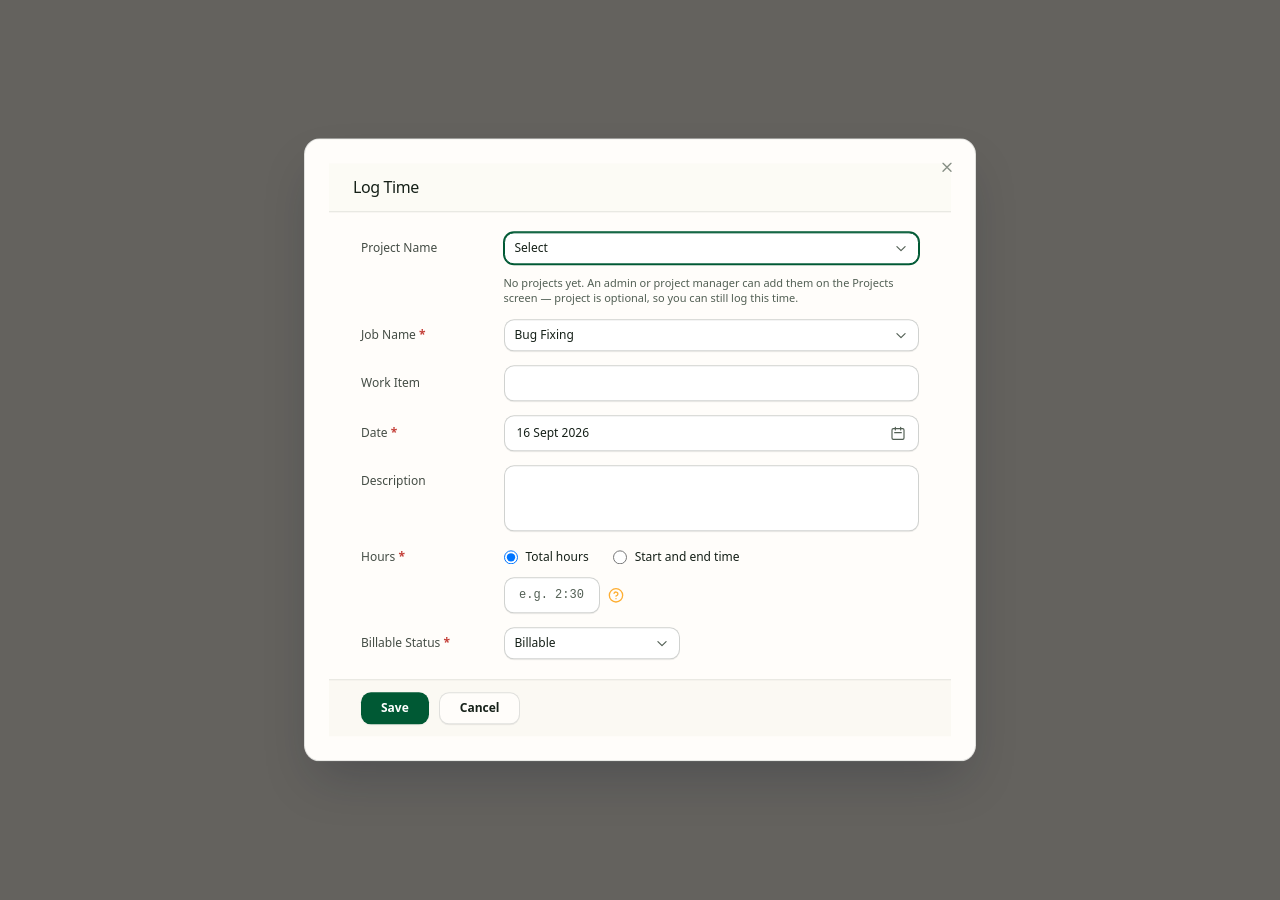
Scenario: Log Time hours › will not save until hours are entered
Click the button "Save" at (395, 709), box [361,693,429,725]
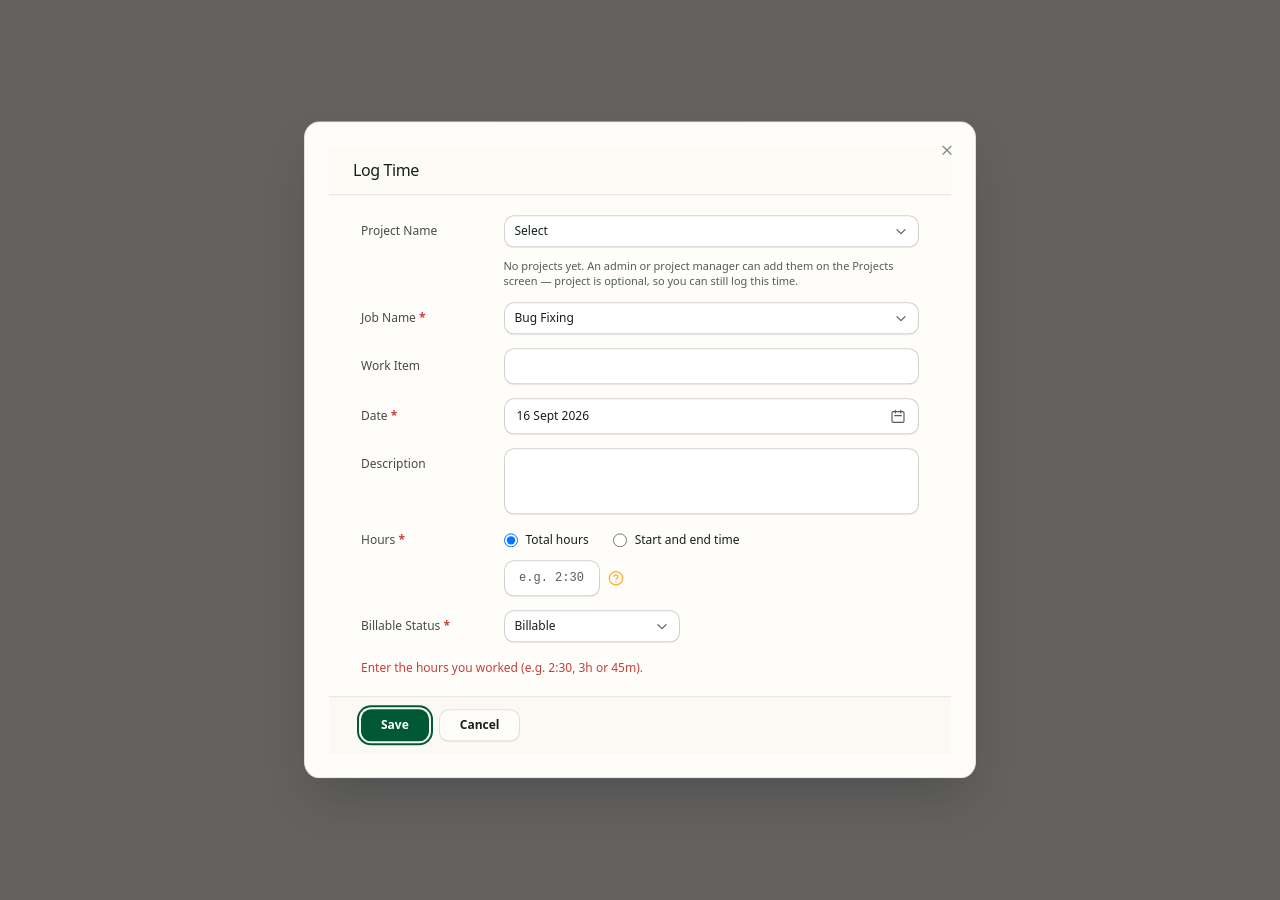
Expected: the text "Enter the hours you worked (e.g. 2:30, 3h or 45m)." is shown, [361,660,643,677]
